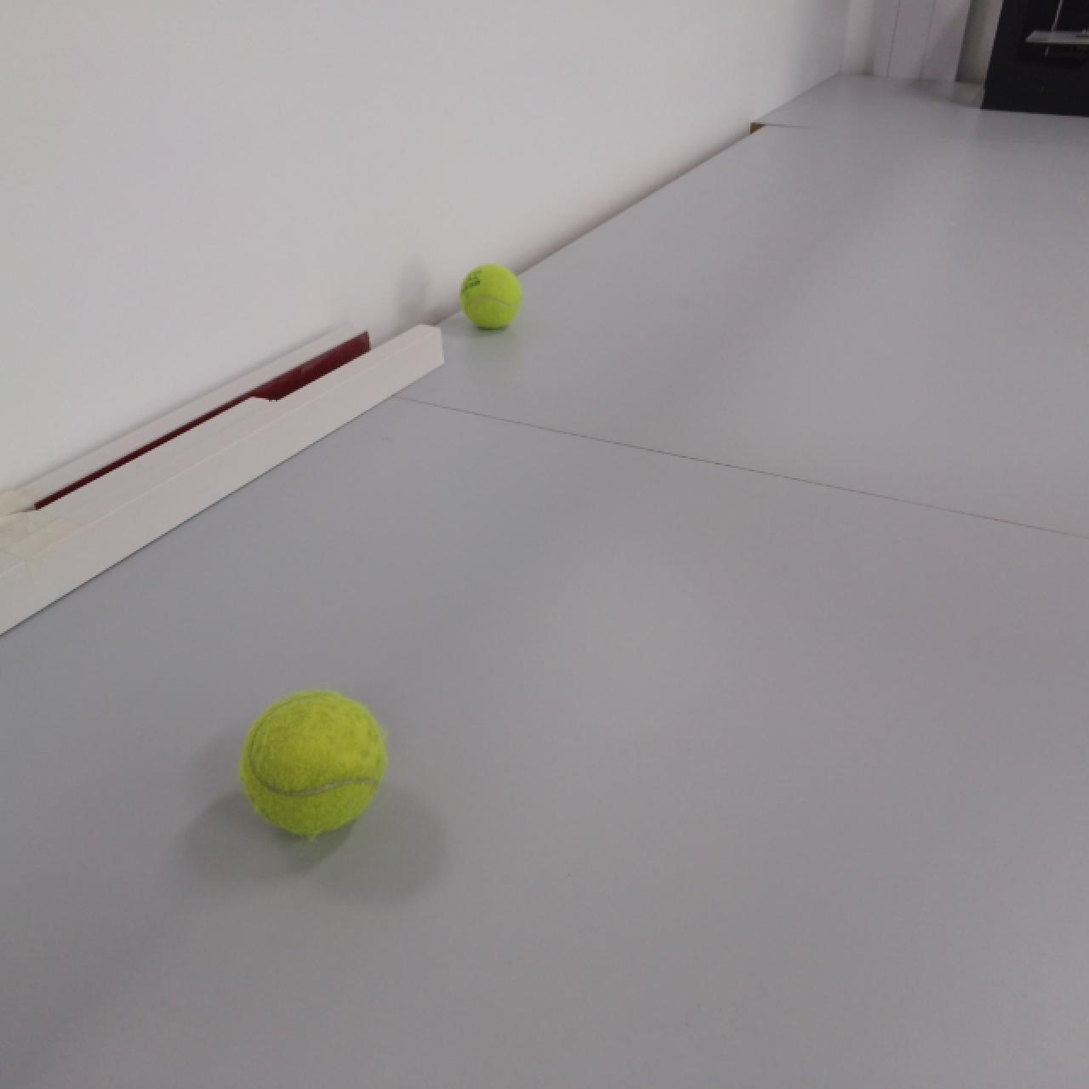tennis-ball: (238, 685, 385, 838), (460, 261, 523, 332)
